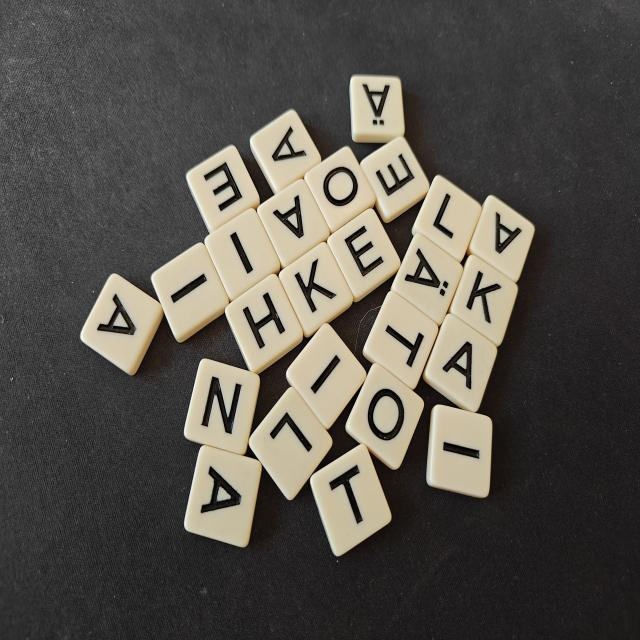a: (81, 274, 163, 375), (184, 445, 262, 547), (423, 314, 497, 412), (257, 179, 330, 268), (250, 109, 321, 193), (467, 195, 535, 281)
a_dot: (391, 234, 463, 325), (349, 75, 405, 142)
e: (328, 208, 400, 302), (186, 145, 259, 233), (360, 137, 430, 222)
h: (225, 274, 303, 374)
i: (286, 323, 366, 429), (151, 243, 229, 342), (205, 209, 280, 300), (426, 405, 492, 498)
k: (279, 242, 353, 337), (450, 255, 518, 346)
l: (249, 387, 332, 500), (412, 175, 481, 261)
n: (184, 359, 260, 455)
o: (346, 364, 424, 469), (305, 146, 375, 232)
t: (310, 445, 391, 556), (362, 292, 438, 389)
